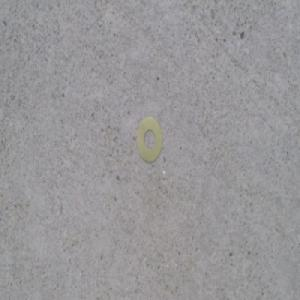Washer: (137, 116, 164, 166)
